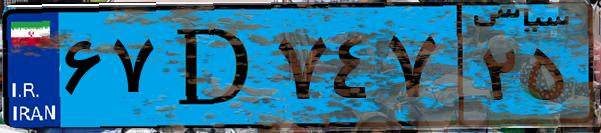2: (475, 38, 525, 113)
4: (330, 28, 385, 110)
5: (525, 38, 570, 115)
6: (57, 26, 110, 100)
7: (270, 28, 330, 110), (385, 28, 445, 110), (110, 28, 158, 98)
D: (158, 12, 270, 120)
